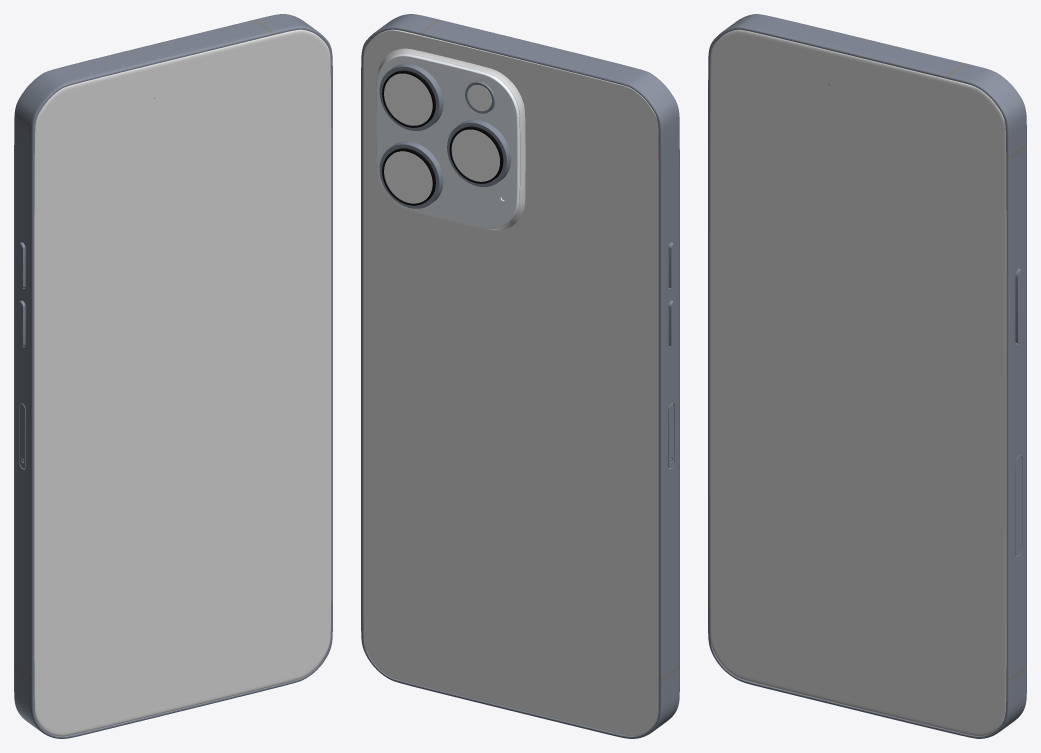
File: phone.fbx
The picture shows the model from 3 angles, left to right: view 1: azimuth 30°, elevation 25°; view 2: azimuth 150°, elevation 25°; view 3: azimuth 330°, elevation 25°; orthographic projection.
Parts seen in each view (by area): view 1: main body.001, body metal frame, volume buttons; view 2: main body, body metal frame, camera glass base, top left camera glass.002, top left camera glass, top left camera glass.001, camera body base, top left camera metal frame, right camera metal frame, bottom left camera metal frame, volume buttons; view 3: main body.001, body metal frame, bottom right button, top right button.
Boxes of the visible parts, x1=… form: main body.001: x1=34, y1=30, x2=331, y2=736; body metal frame: x1=14, y1=14, x2=332, y2=738; volume buttons: x1=18, y1=242, x2=25, y2=346; main body: x1=363, y1=29, x2=672, y2=736; body metal frame: x1=361, y1=14, x2=679, y2=738; camera glass base: x1=376, y1=53, x2=519, y2=229; top left camera glass.002: x1=451, y1=129, x2=499, y2=181; top left camera glass: x1=384, y1=73, x2=432, y2=125; top left camera glass.001: x1=384, y1=151, x2=432, y2=203; camera body base: x1=377, y1=48, x2=525, y2=230; top left camera metal frame: x1=379, y1=63, x2=443, y2=130; right camera metal frame: x1=447, y1=119, x2=510, y2=186; bottom left camera metal frame: x1=379, y1=141, x2=443, y2=208; volume buttons: x1=668, y1=242, x2=675, y2=346; main body.001: x1=709, y1=30, x2=1006, y2=736; body metal frame: x1=708, y1=14, x2=1026, y2=738; bottom right button: x1=1015, y1=456, x2=1022, y2=555; top right button: x1=1015, y1=268, x2=1023, y2=344.
Bounding box in the file's own units: 7.93 × 16.27 × 1.28.
